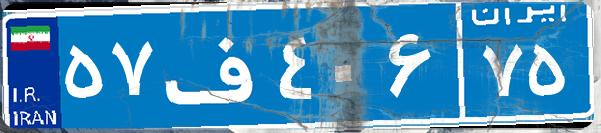0: (330, 28, 385, 110)
4: (273, 28, 330, 110)
5: (57, 26, 110, 107), (525, 38, 570, 115)
6: (385, 28, 445, 110)
7: (475, 38, 525, 113), (110, 28, 158, 105)
ف: (158, 15, 273, 115)
